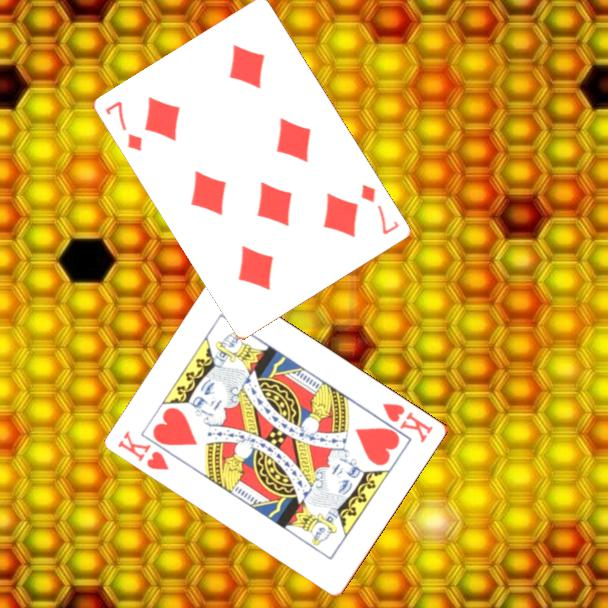d07: (358, 181, 403, 238), (102, 97, 146, 154)
h13: (379, 399, 436, 446), (115, 427, 173, 473)
